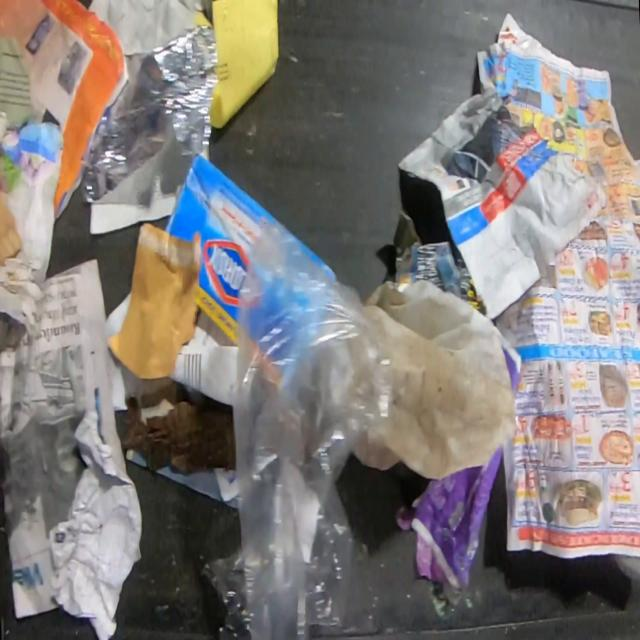cardboard: (0, 192, 24, 265)
soft_plastic: (202, 220, 392, 639), (351, 278, 514, 480), (79, 26, 218, 204)
